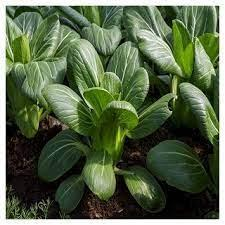Healthy-Pechay: (18, 12, 224, 181)
